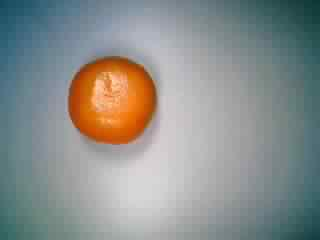orange: (62, 52, 159, 148)
